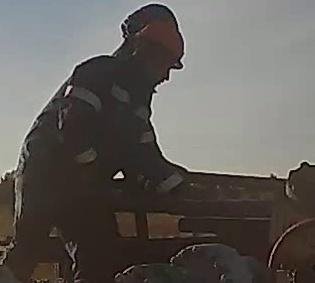helmet: (133, 19, 185, 71)
vest: (21, 58, 153, 212)
